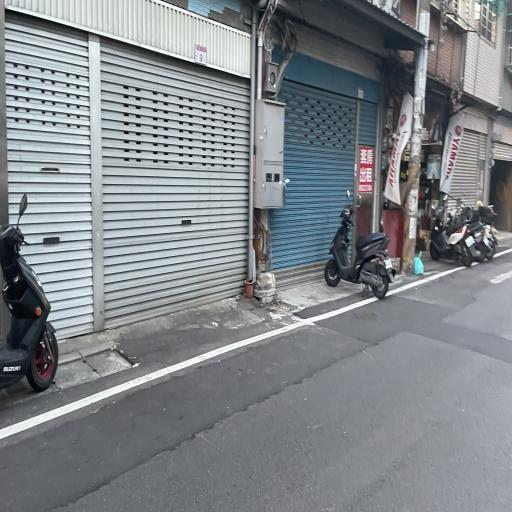car: (0, 243, 511, 445)
